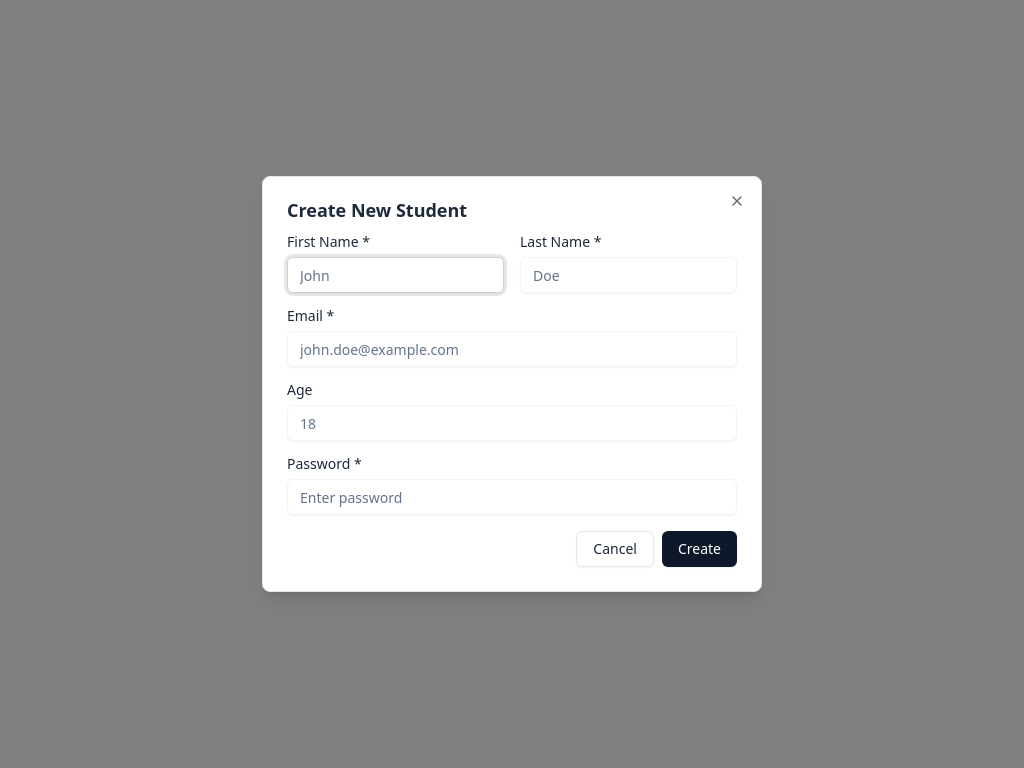
Test: AdminStudentModal › rejects an age outside 10 to 100 before calling the API
The image size is (1024, 768).
Step 1. Type "Nia" into the field labelled "First Name *" → (396,275), box 287,257 -> 504,293
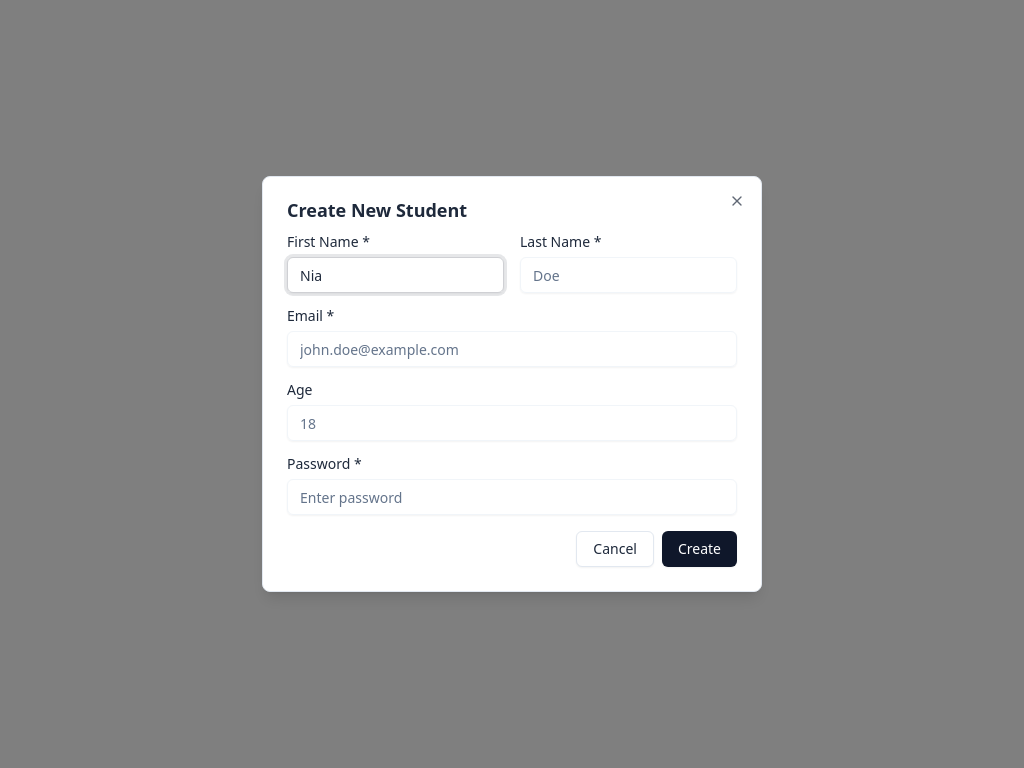
Step 2. Type "Newton" into the field labelled "Last Name *" → (628,275), box 520,257 -> 737,293
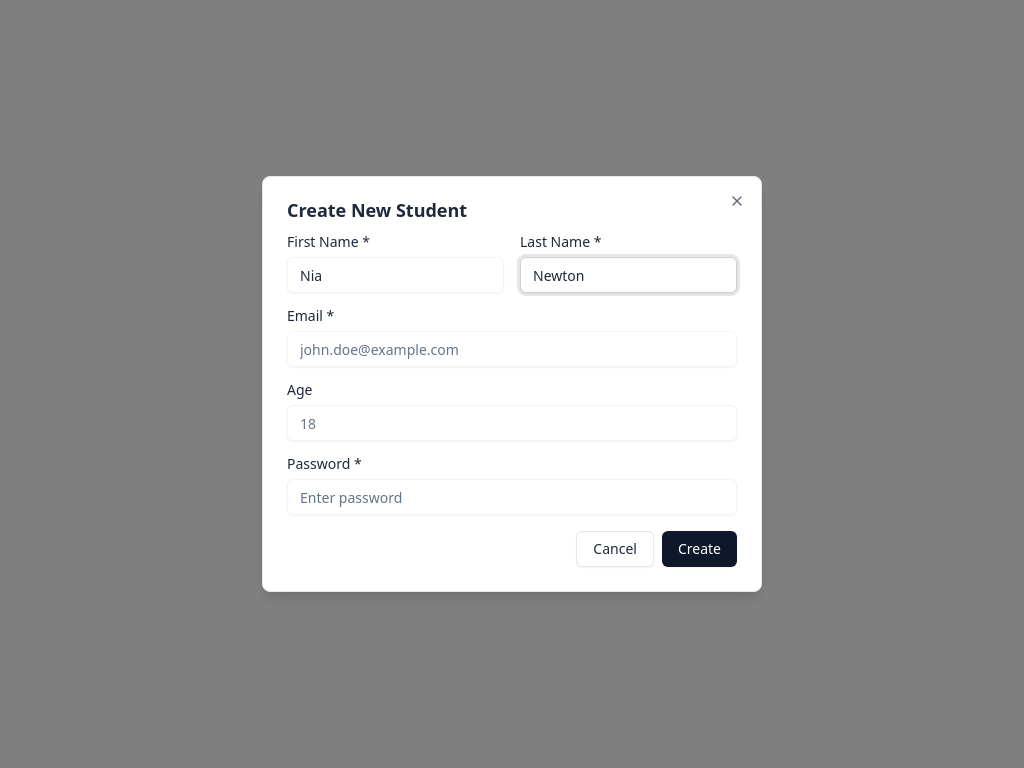
Step 3. Type "nia@example.com" into the field labelled "Email *" → (512,349), box 287,331 -> 737,367
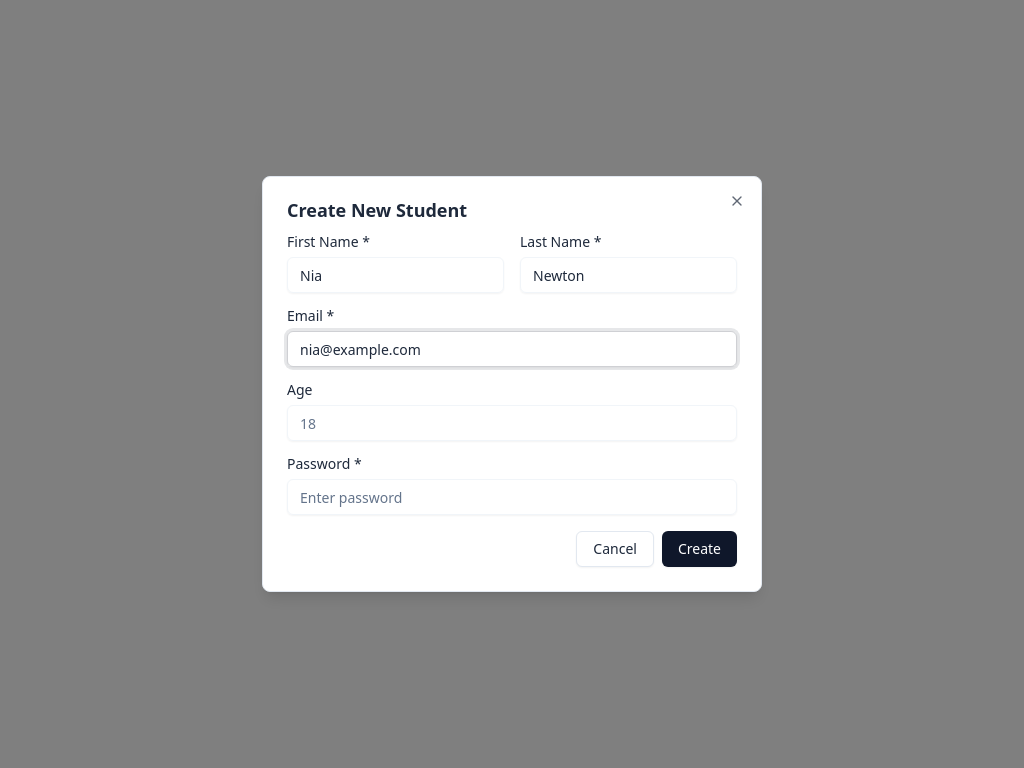
Step 4. Type "secret12" into the password field labelled "Password *" → (512,497), box 287,479 -> 737,515
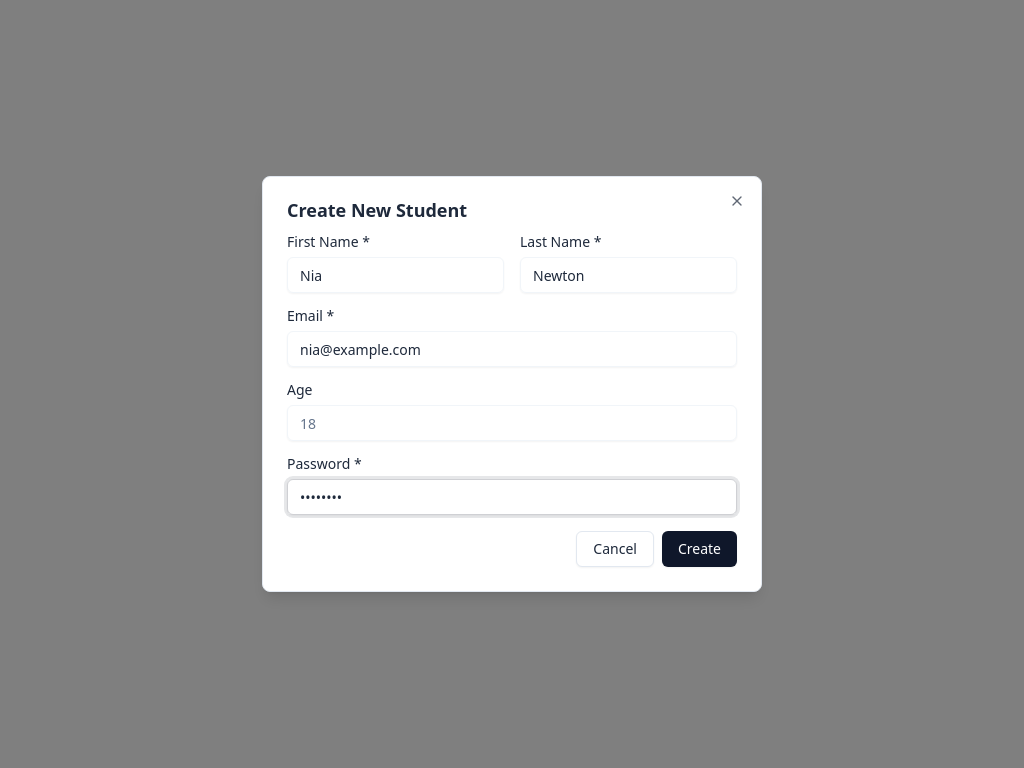
Step 5. Type "7" into the number field labelled "Age" → (512,423), box 287,405 -> 737,441
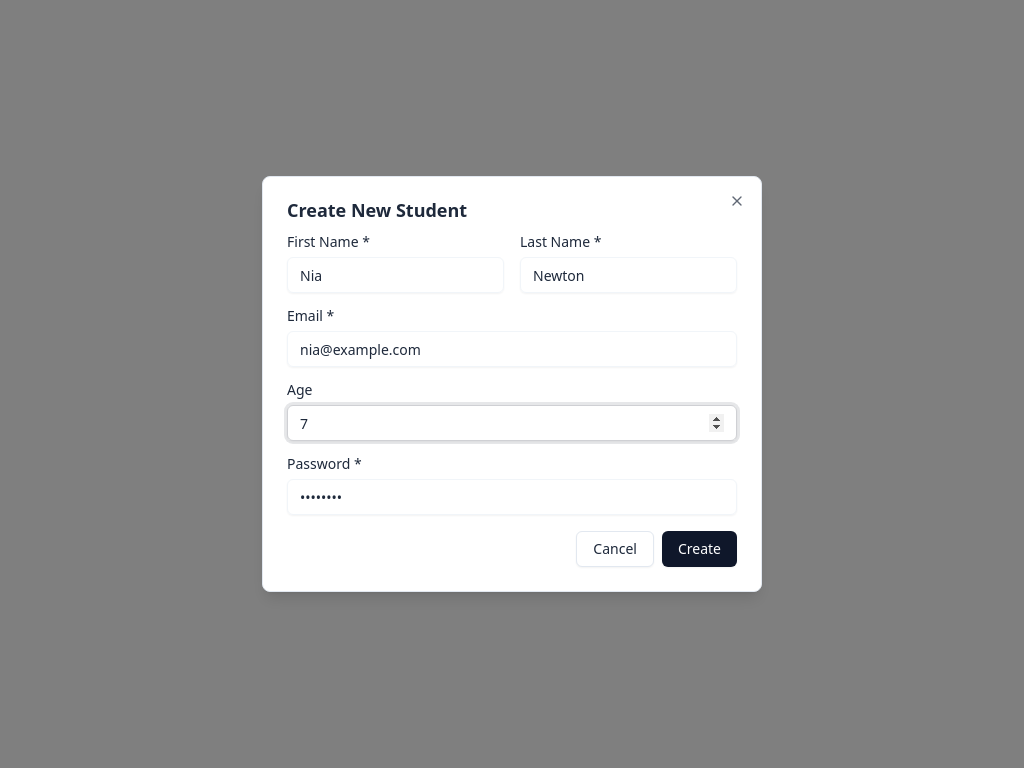
Step 6. Click the button "Create" → (699,549), box 662,531 -> 737,567
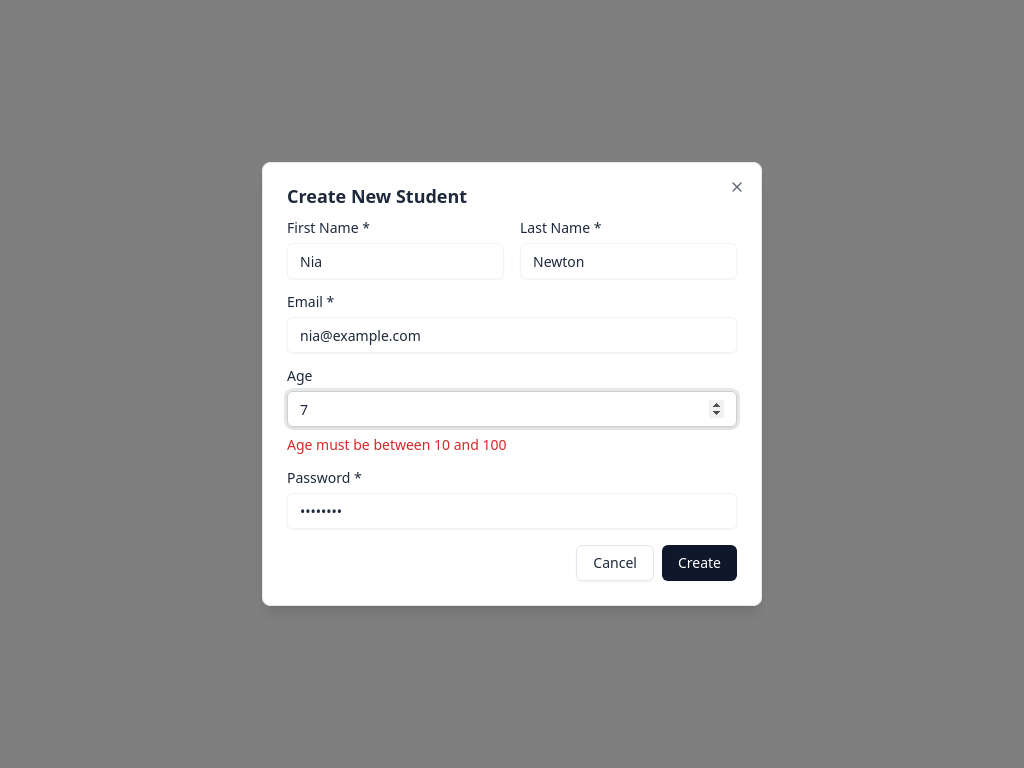
Expected: the text "Age must be between 10 and 100" is shown, 287,435 -> 506,454
